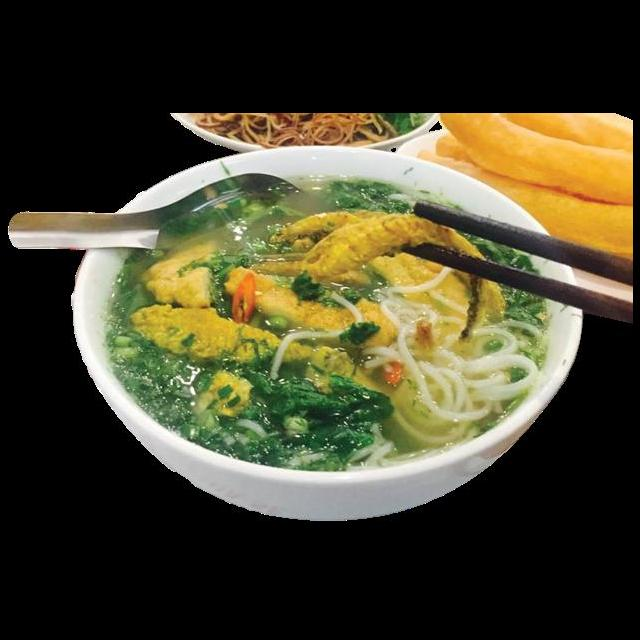bun: (356, 278, 552, 476)
bun ca: (65, 144, 589, 526)
ca: (262, 202, 513, 346), (300, 204, 492, 294), (219, 260, 403, 352), (123, 298, 330, 369), (137, 230, 226, 316)
